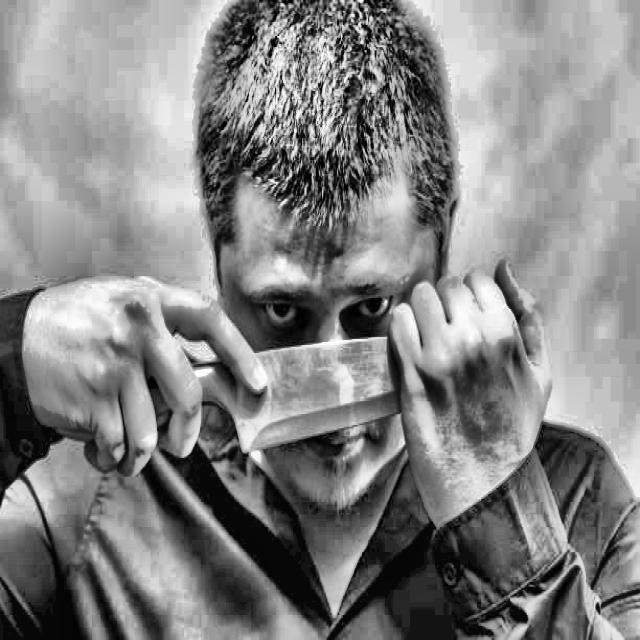pisau: (70, 313, 487, 478)
